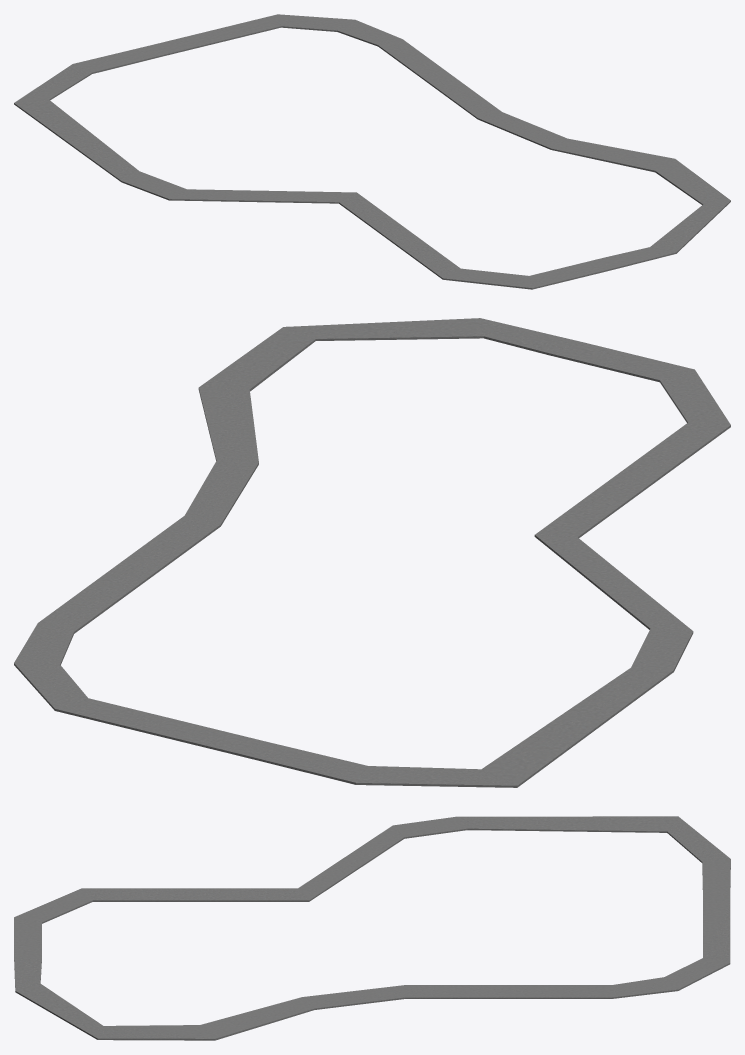
Rendered from race_track.gltf.
3 renders of one model, top to bottom at view 1: azimuth 30°, elevation 25°; view 2: azimuth 150°, elevation 25°; view 3: azimuth 270°, elevation 25°, orthographic. The views are drawn at different scales.
Parts seen in each view (by area): view 1: Cube; view 2: Cube; view 3: Cube.
Boxes of the visible parts, x1,y1,x2,y2 form: Cube: [14, 14, 730, 289]; Cube: [14, 318, 730, 787]; Cube: [14, 816, 730, 1040].
Size of the model in its own units: 1844 by 6.82 by 2509.
Materials: 1 (1 with a texture image).
